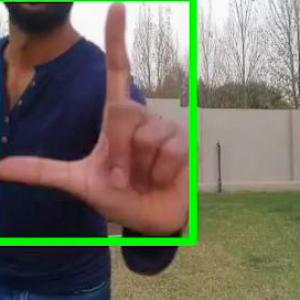land_hand: (18, 9, 203, 217)
